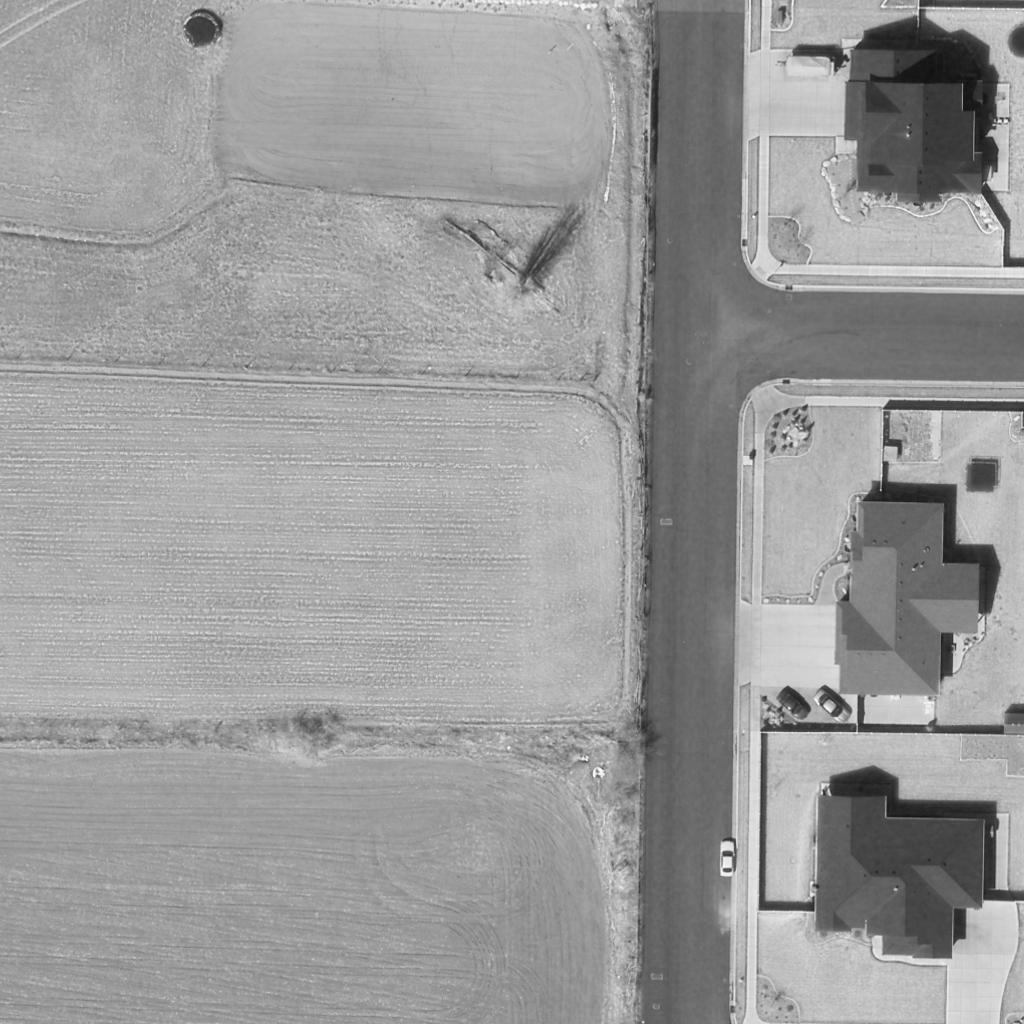vehicle: (812, 687, 852, 727), (776, 691, 810, 721), (720, 839, 734, 879)
